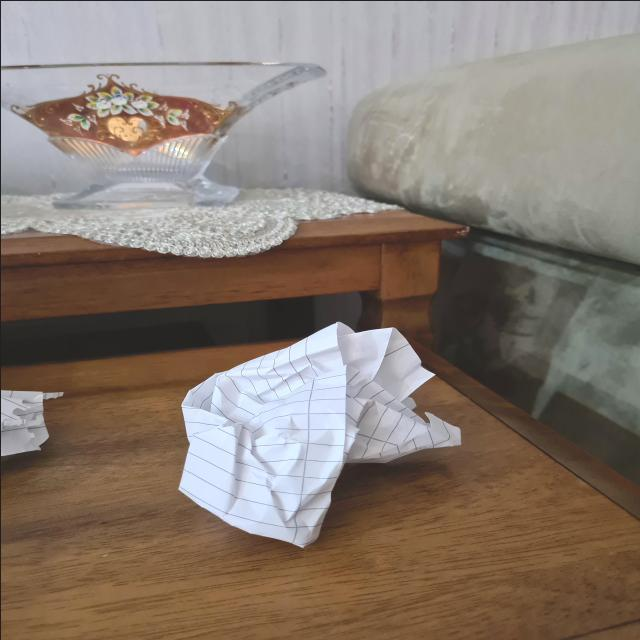Paper: (157, 319, 464, 542)
